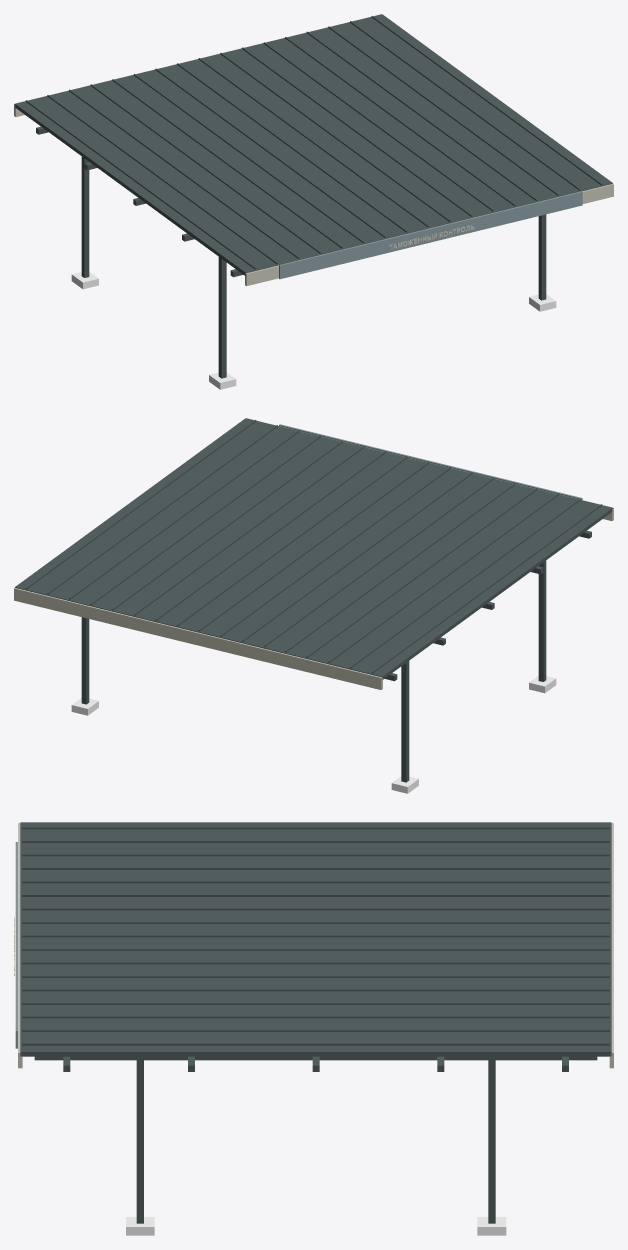
File: frontier_customs_control_canopy.glb
The picture shows the model from 3 angles, top to bottom: view 1: azimuth 30°, elevation 25°; view 2: azimuth 150°, elevation 25°; view 3: azimuth 270°, elevation 25°; orthographic projection. The views are drawn at different scales.
Visible parts, largest first — view 1: frontier_customs_control_canopy; view 2: frontier_customs_control_canopy; view 3: frontier_customs_control_canopy.
Boxes of the visible parts, x1=… form: frontier_customs_control_canopy: x1=14, y1=14, x2=613, y2=389; frontier_customs_control_canopy: x1=14, y1=418, x2=613, y2=793; frontier_customs_control_canopy: x1=14, y1=822, x2=613, y2=1235.
Bounding box in the file's own units: 17 × 6.74 × 18.77.
